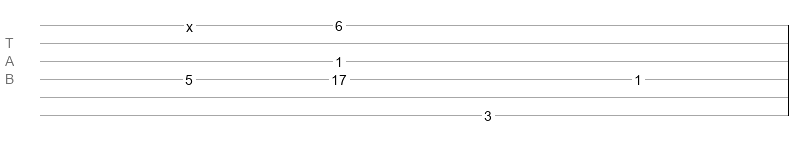1: (335, 54, 343, 64), (634, 72, 642, 82)
17: (331, 72, 347, 82)
3: (484, 108, 492, 118)
5: (185, 72, 193, 82)
6: (335, 18, 343, 28)
x: (186, 19, 193, 27)
